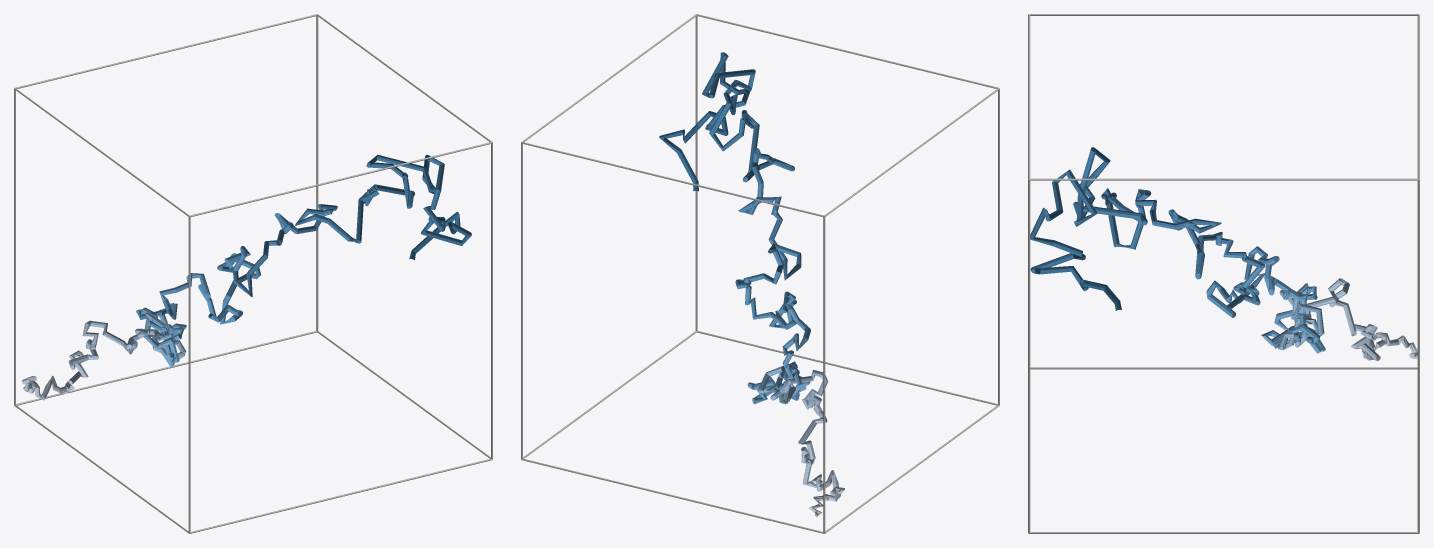
The picture shows the model from 3 angles, left to right: view 1: azimuth 30°, elevation 25°; view 2: azimuth 150°, elevation 25°; view 3: azimuth 270°, elevation 25°; orthographic projection. The views are drawn at different scales.
Visible parts, largest first — view 1: geometry_0, geometry_1; view 2: geometry_0, geometry_1; view 3: geometry_0, geometry_1.
Part boxes in pixels (left/top/right/bottom): geometry_0: left=22, top=154, right=471, bottom=400; geometry_1: left=14, top=14, right=492, bottom=533; geometry_0: left=659, top=52, right=844, bottom=517; geometry_1: left=521, top=14, right=999, bottom=533; geometry_0: left=1030, top=147, right=1417, bottom=360; geometry_1: left=1028, top=14, right=1419, bottom=533.
Size of the model in its own units: 0.3042 by 0.3014 by 0.3016.
